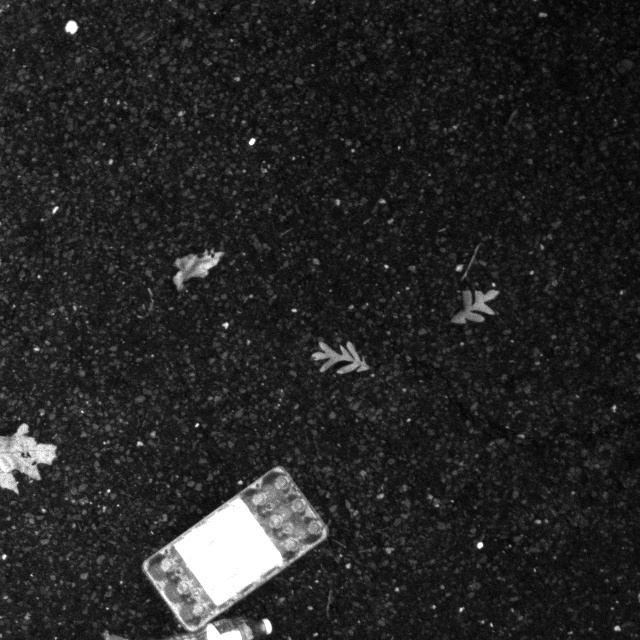container: (133, 463, 330, 632)
